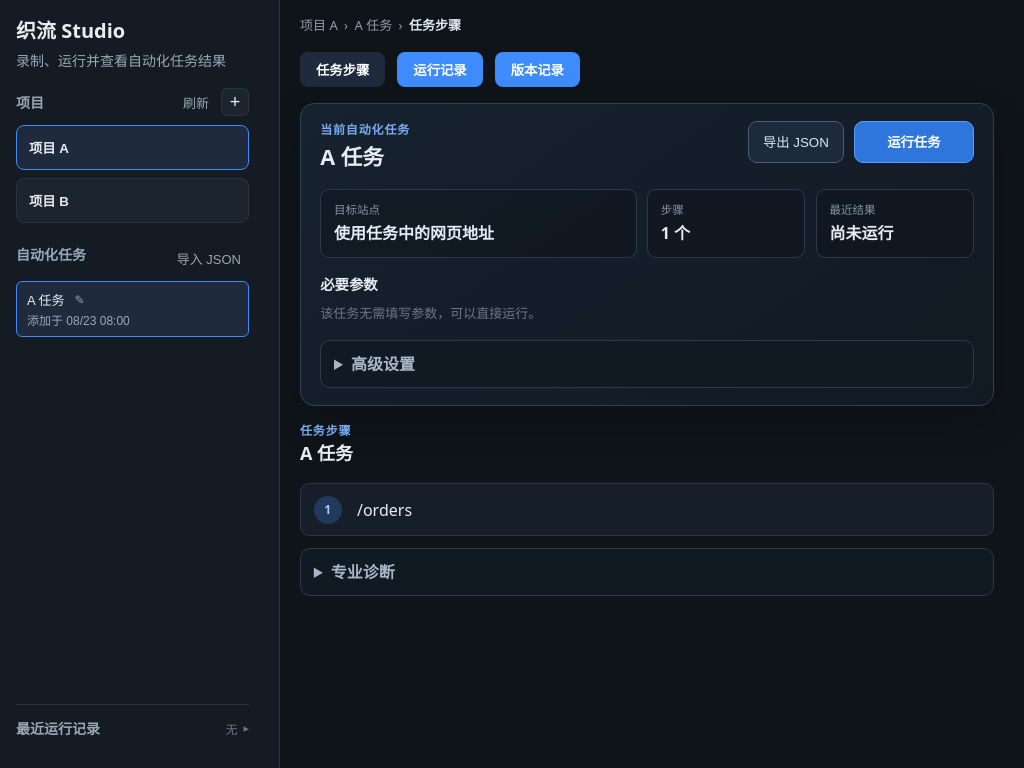
Test: App Flow 导入导出 › 导入等待期间切换项目时，旧响应不会污染新项目选择
The width and height of the screenshot is (1024, 768).
Click the button "导入 JSON" at (209, 258), box [169,243,249,273]
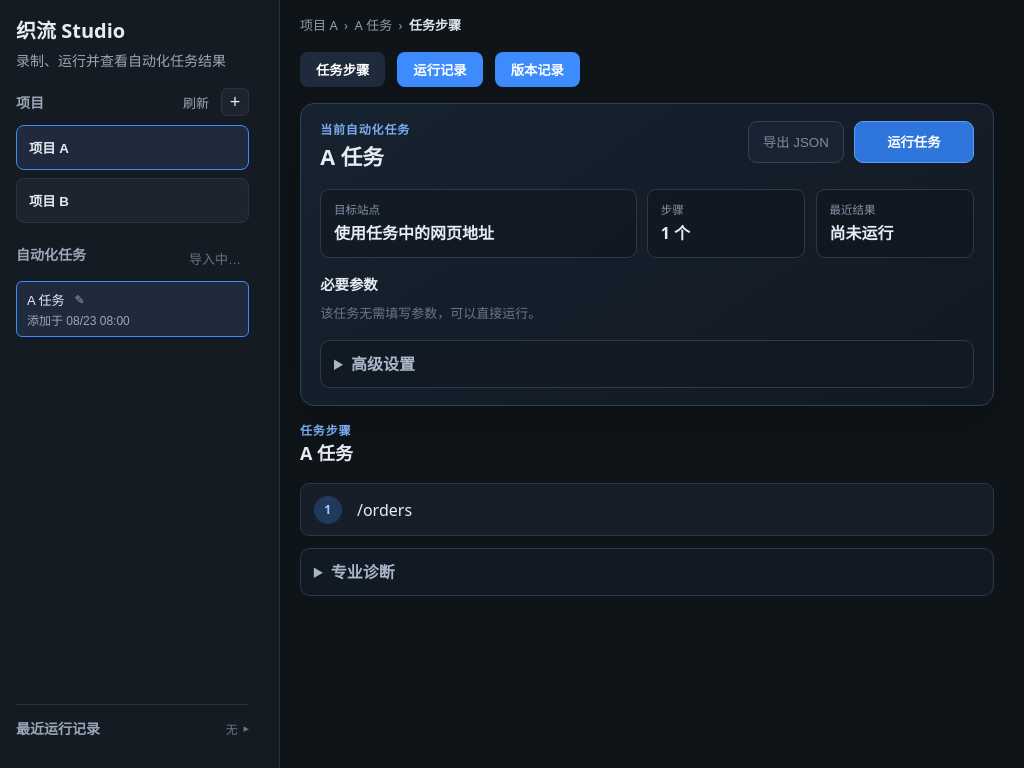
Click the button "项目 B" at (132, 201), box [16,178,249,223]
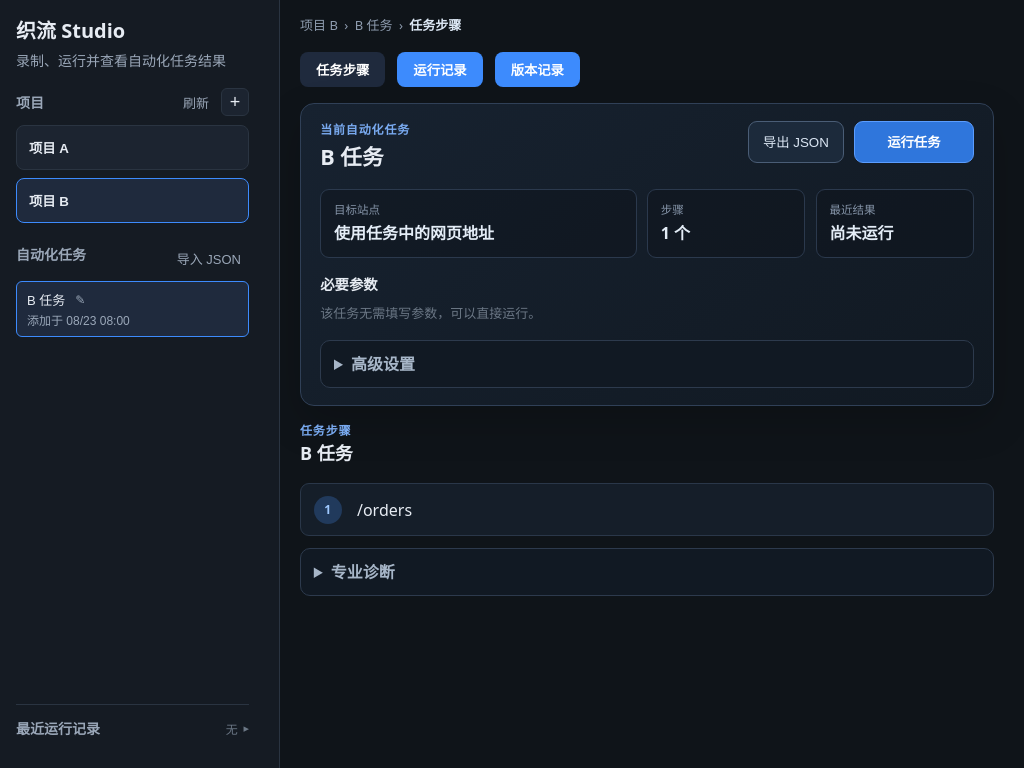
Expected: the navigation bar with class "workspace-breadcrumb" shows "项目 B", [300,16,338,34]
Expected: the button with class "flow-list-item" shows "B 任务", [16,281,249,337]
Expected: the button "导入 JSON" is enabled, [169,243,249,273]
